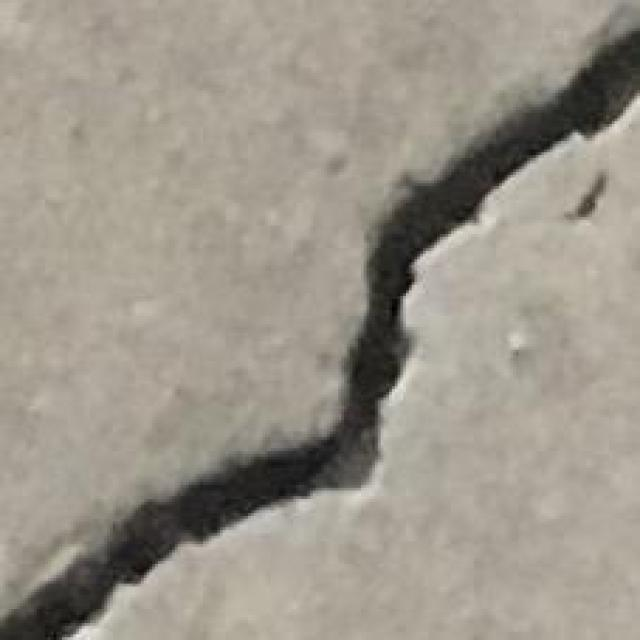diagonal crack: (0, 27, 639, 639)
